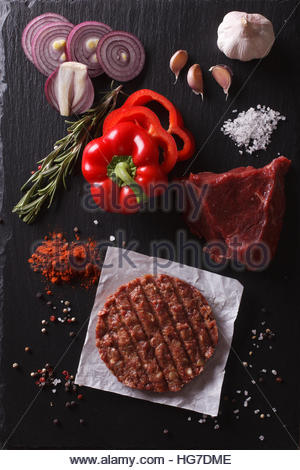ground_beef: (90, 266, 236, 400)
